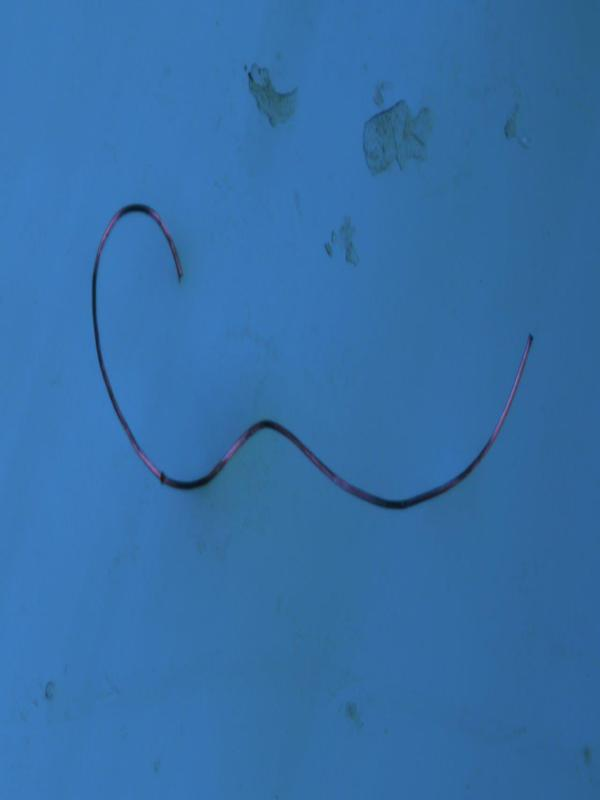microplastic: (90, 200, 533, 511)
